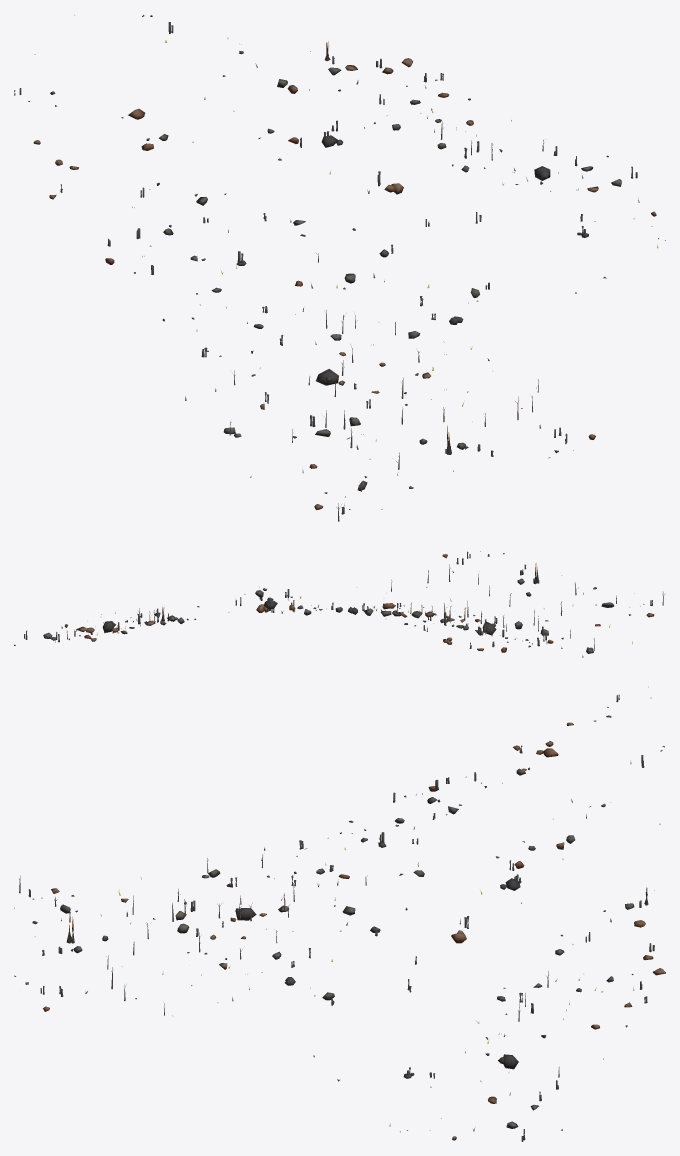
Rendered from ash_land_scatter_c21_29_lod1.glb.
3 views of the same model, one above another, from view 1: azimuth 30°, elevation 25°; view 2: azimuth 150°, elevation 25°; view 3: azimuth 270°, elevation 25° (orthographic). The views are drawn at different scales.
Visible parts, largest first — view 1: ash_land_scatter_c21_29_lod1; view 2: ash_land_scatter_c21_29_lod1; view 3: ash_land_scatter_c21_29_lod1.
Part boxes in pixels (bbox=[...]): ash_land_scatter_c21_29_lod1: bbox=[14, 15, 665, 521]; ash_land_scatter_c21_29_lod1: bbox=[14, 551, 664, 657]; ash_land_scatter_c21_29_lod1: bbox=[14, 686, 665, 1141].
Bounding box in the file's own units: 252 × 102 × 253.
